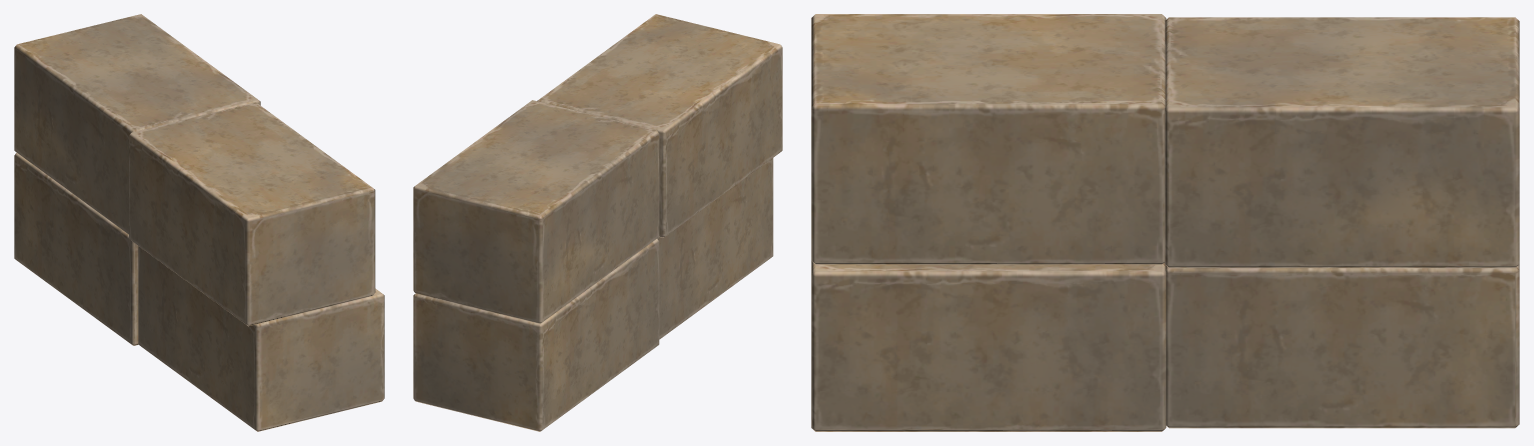
The model's file is SM_construction_block_02.gltf.
3 renders of one model, left to right at view 1: azimuth 30°, elevation 25°; view 2: azimuth 150°, elevation 25°; view 3: azimuth 270°, elevation 25°, orthographic. The views are drawn at different scales.
Visible parts, largest first — view 1: SM_construction_block_02; view 2: SM_construction_block_02; view 3: SM_construction_block_02.
Part boxes in pixels (x1,y1,x2,y2): SM_construction_block_02: (14,14,384,431); SM_construction_block_02: (413,14,782,431); SM_construction_block_02: (811,14,1519,431).
Size of the model in its own units: 1.61 by 2.39 by 4.79.
1 material, 1 textured.
